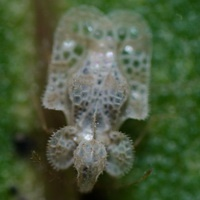insect: (42, 6, 150, 192)
